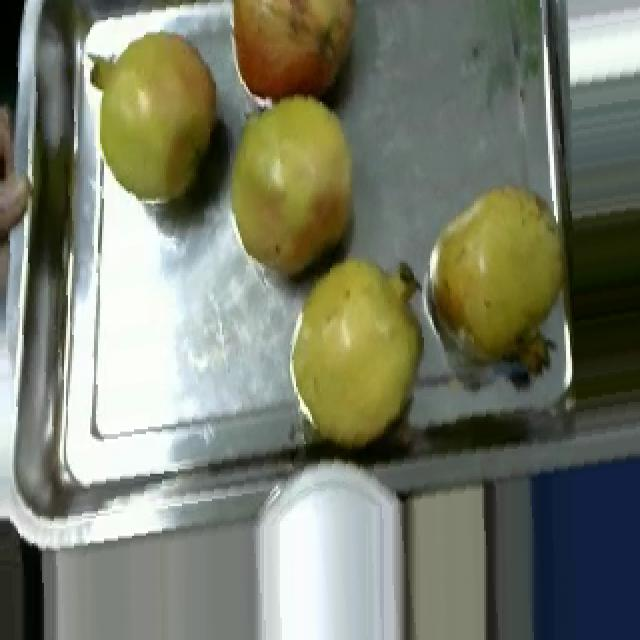fruit: (280, 234, 438, 466), (416, 164, 578, 389), (220, 80, 374, 296), (82, 18, 228, 224), (222, 0, 370, 117)
